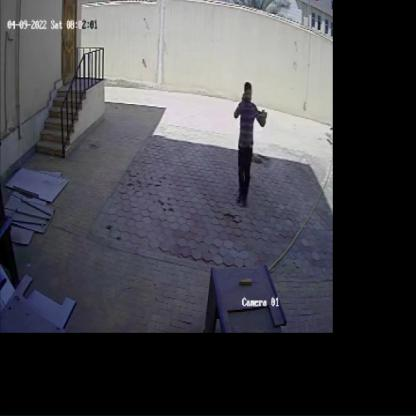handgun: (240, 105, 269, 121)
